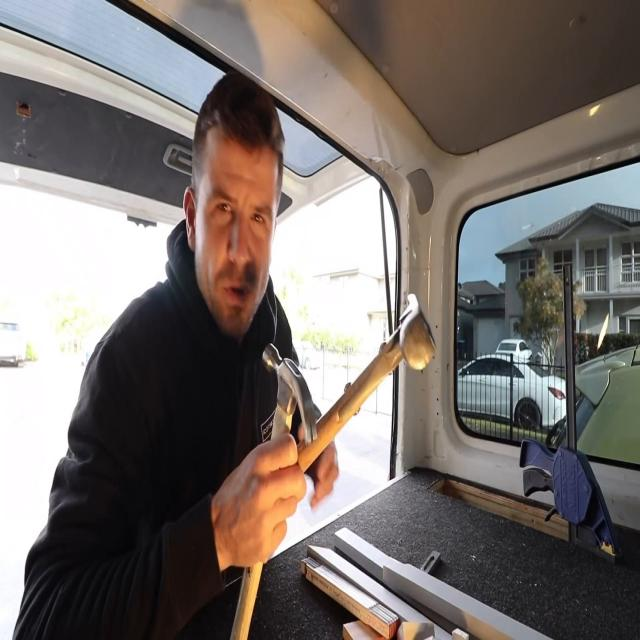hammer: (225, 339, 323, 640), (294, 294, 436, 470)
